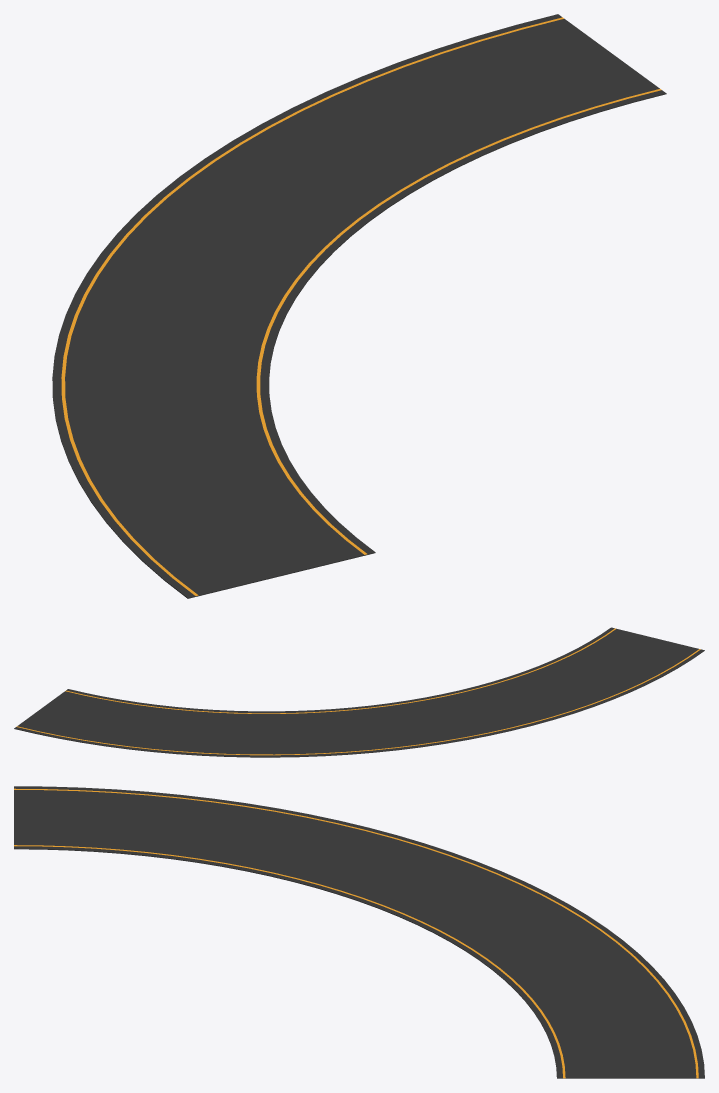
The model's file is SM_Racetrack_Plain_Turn_60x60m.fbx.
3 views of the same model, one above another, from view 1: azimuth 30°, elevation 25°; view 2: azimuth 150°, elevation 25°; view 3: azimuth 270°, elevation 25° (orthographic). The views are drawn at different scales.
Visible parts, largest first — view 1: SM_Racetrack_Plain_Turn_60x60m; view 2: SM_Racetrack_Plain_Turn_60x60m; view 3: SM_Racetrack_Plain_Turn_60x60m.
Boxes of the visible parts, x1,y1,x2,y2 form: SM_Racetrack_Plain_Turn_60x60m: [52, 14, 666, 598]; SM_Racetrack_Plain_Turn_60x60m: [14, 627, 704, 757]; SM_Racetrack_Plain_Turn_60x60m: [14, 786, 704, 1078].
Bounding box in the file's own units: 56 × 0.05 × 56.
